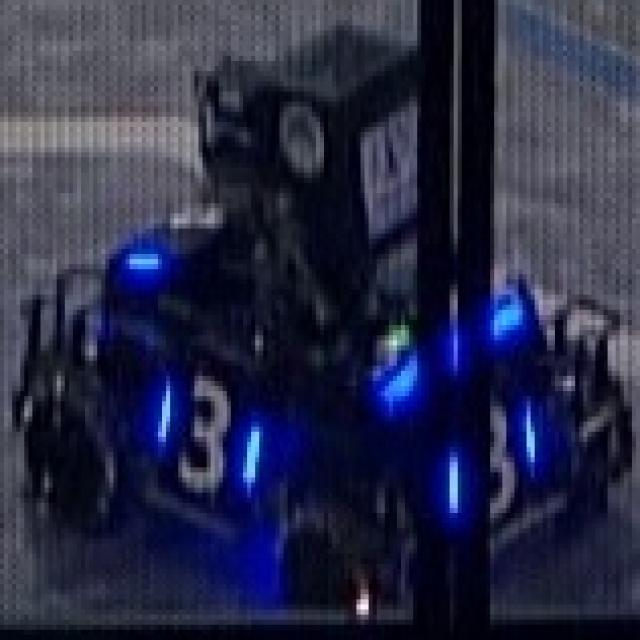B3: (429, 396, 547, 538), (134, 371, 263, 498)
